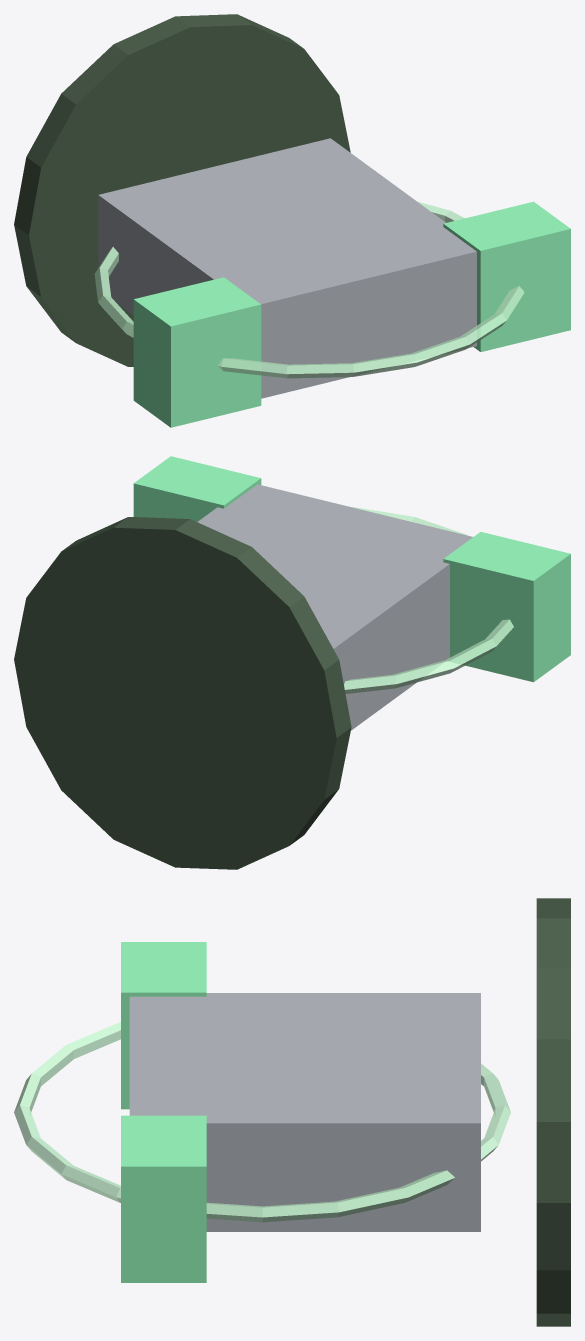
Rendered from 04_high_tier_magic_armor.glb.
The picture shows the model from 3 angles, top to bottom: view 1: azimuth 30°, elevation 25°; view 2: azimuth 150°, elevation 25°; view 3: azimuth 270°, elevation 25°; orthographic projection. The views are drawn at different scales.
Visible parts, largest first — view 1: chest_plate, armor_display_base, pauldron_l, pauldron_r, armor_barrier_ring; view 2: armor_display_base, chest_plate, pauldron_l, pauldron_r, armor_barrier_ring; view 3: chest_plate, armor_display_base, pauldron_r, armor_barrier_ring, pauldron_l.
Boxes of the visible parts, x1,y1,x2,y2 form: chest_plate: (98,138,476,398); armor_display_base: (14,14,350,366); pauldron_l: (133,277,261,427); pauldron_r: (443,201,570,351); armor_barrier_ring: (94,202,524,378); armor_display_base: (14,517,351,869); chest_plate: (197,484,472,730); pauldron_l: (443,532,570,682); pauldron_r: (133,456,261,521); armor_barrier_ring: (344,507,513,693); chest_plate: (129,993,480,1231); armor_display_base: (536,898,570,1326); pauldron_r: (121,1115,206,1282); armor_barrier_ring: (14,1022,510,1222); pauldron_l: (121,942,206,1109).
Size of the model in its own units: 1.24 by 1 by 1.3.
